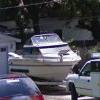Boat: (7, 28, 82, 81)
